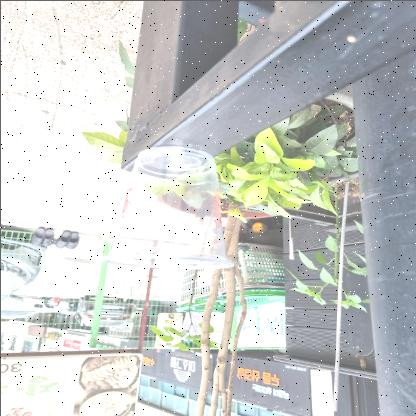Others: (95, 142, 241, 276)
